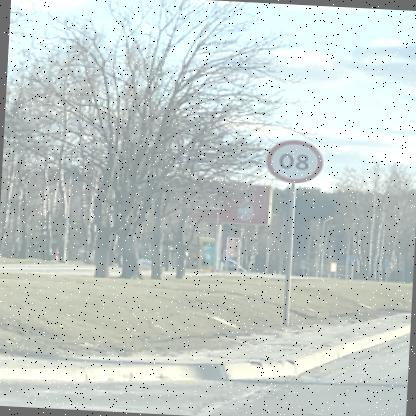speedlimit: (266, 137, 326, 184)
